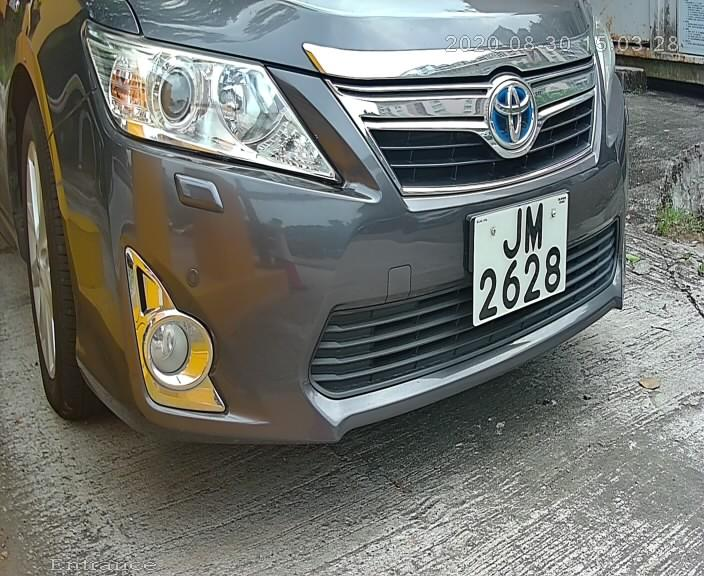License Plate: (466, 178, 576, 337)
